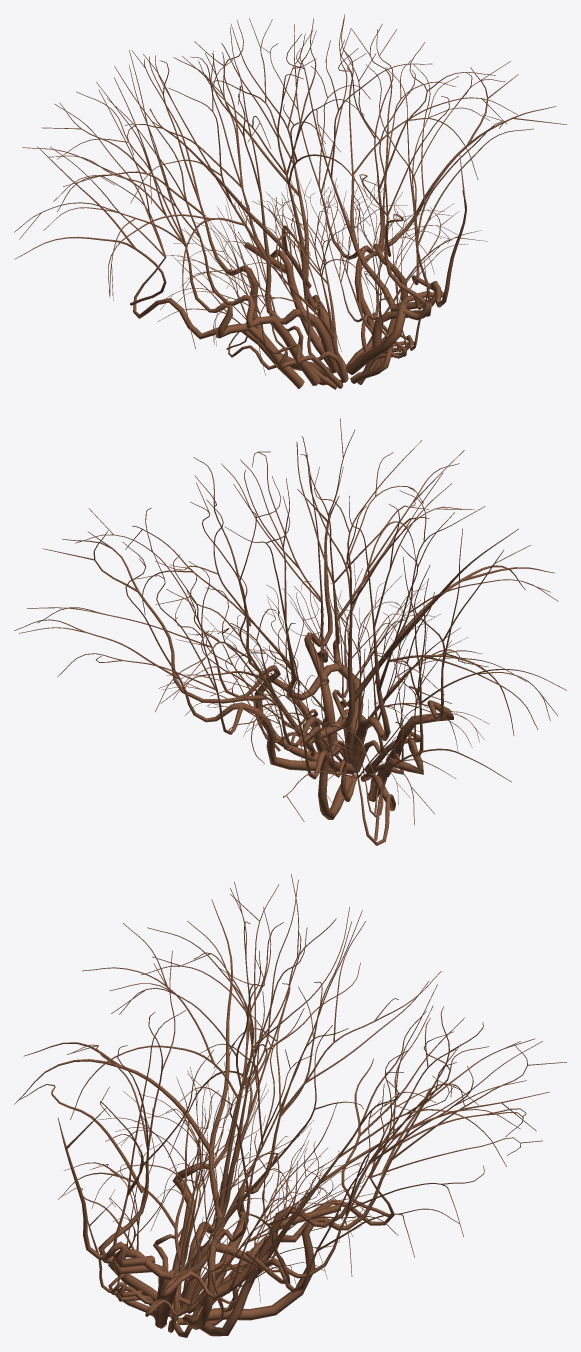
The model's file is tumbleweed.fbx.
The picture shows the model from 3 angles, top to bottom: view 1: azimuth 30°, elevation 25°; view 2: azimuth 150°, elevation 25°; view 3: azimuth 270°, elevation 25°; orthographic projection. The views are drawn at different scales.
Parts seen in each view (by area): view 1: tree.002; view 2: tree.002; view 3: tree.002.
Part boxes in pixels (bbox=[...]): tree.002: bbox=[14, 14, 566, 389]; tree.002: bbox=[14, 418, 566, 845]; tree.002: bbox=[14, 874, 566, 1337].
Size of the model in its own units: 299 by 199 by 256.
